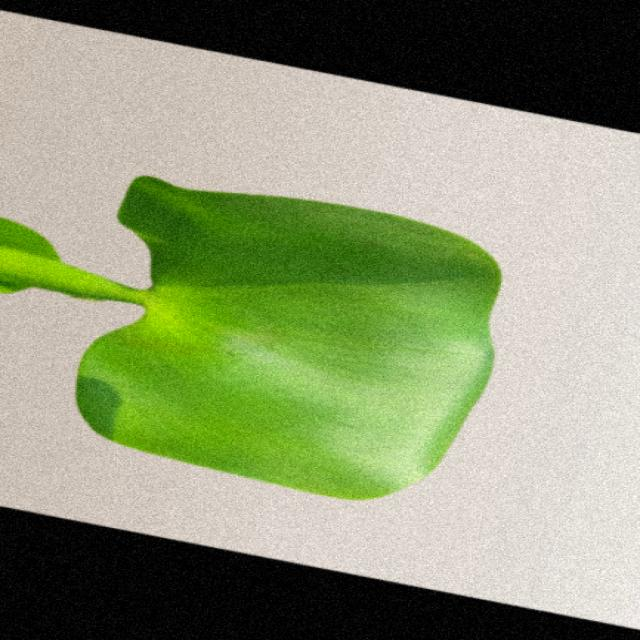daun sehat: (2, 178, 500, 499)
